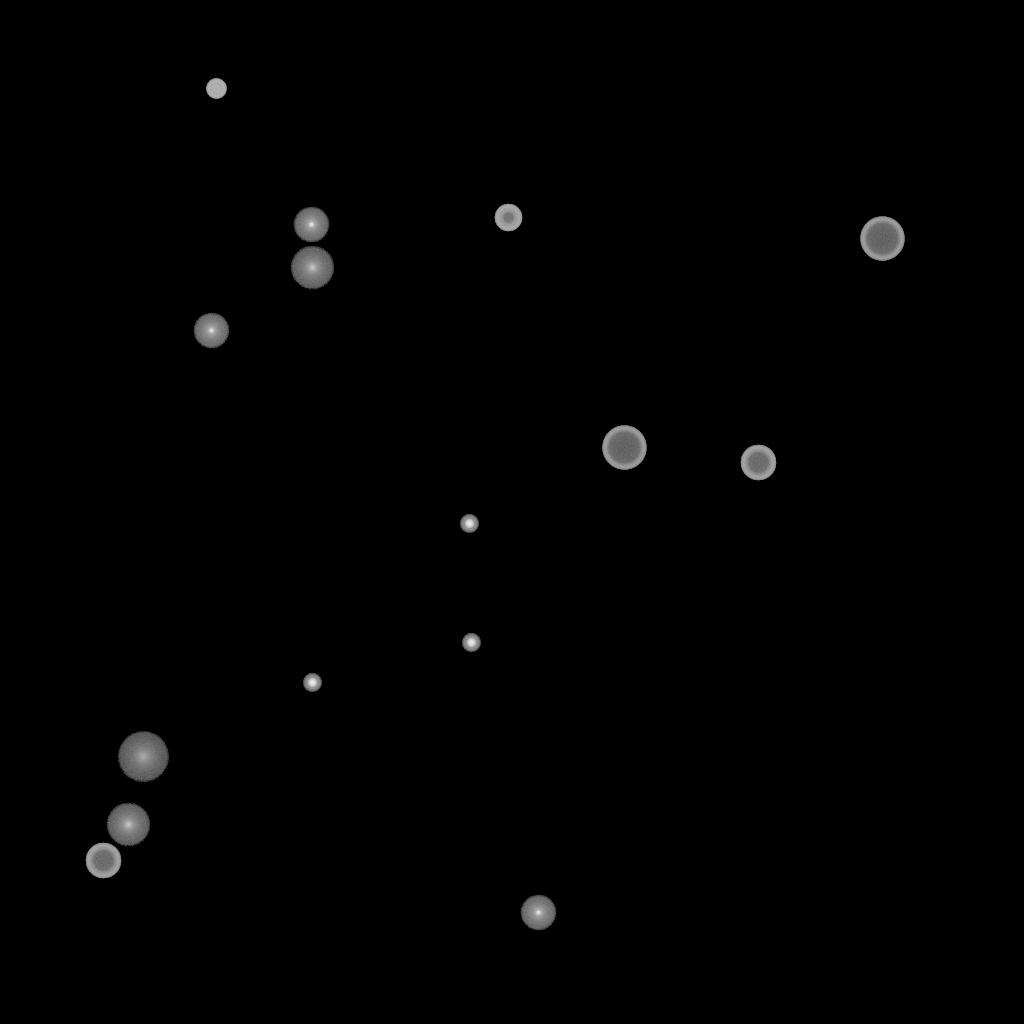depth:-20: (460, 515, 478, 533), (462, 634, 480, 652), (303, 674, 321, 692)
depth:-40: (206, 79, 226, 99)
depth:-50: (494, 204, 522, 232)
depth:-60: (740, 445, 776, 481), (85, 843, 121, 879)
depth:-70: (602, 426, 646, 470), (860, 217, 904, 261)
depth:0: (520, 895, 556, 931), (293, 207, 329, 243), (193, 313, 229, 349)
depth:10: (290, 246, 334, 290), (106, 803, 150, 847)
depth:20: (117, 732, 169, 782)
